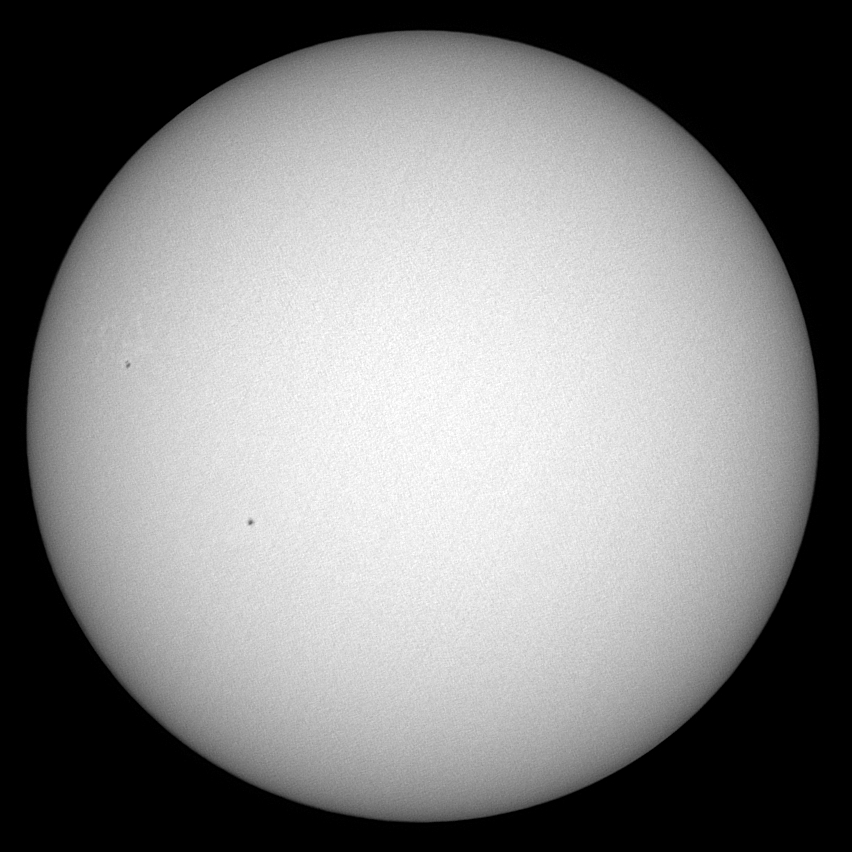sunspot: (121, 356, 136, 371), (244, 514, 257, 530)
